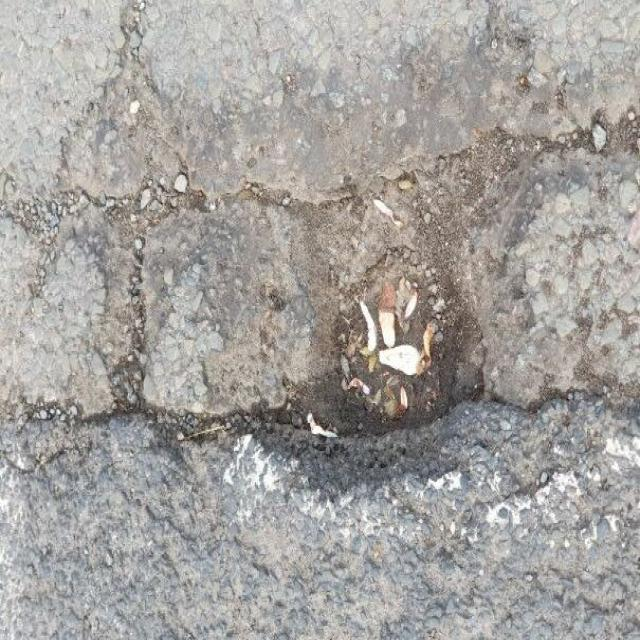pothole: (71, 116, 574, 503)
